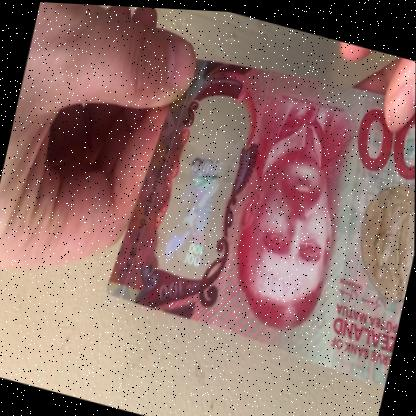100F: (158, 98, 237, 276)
